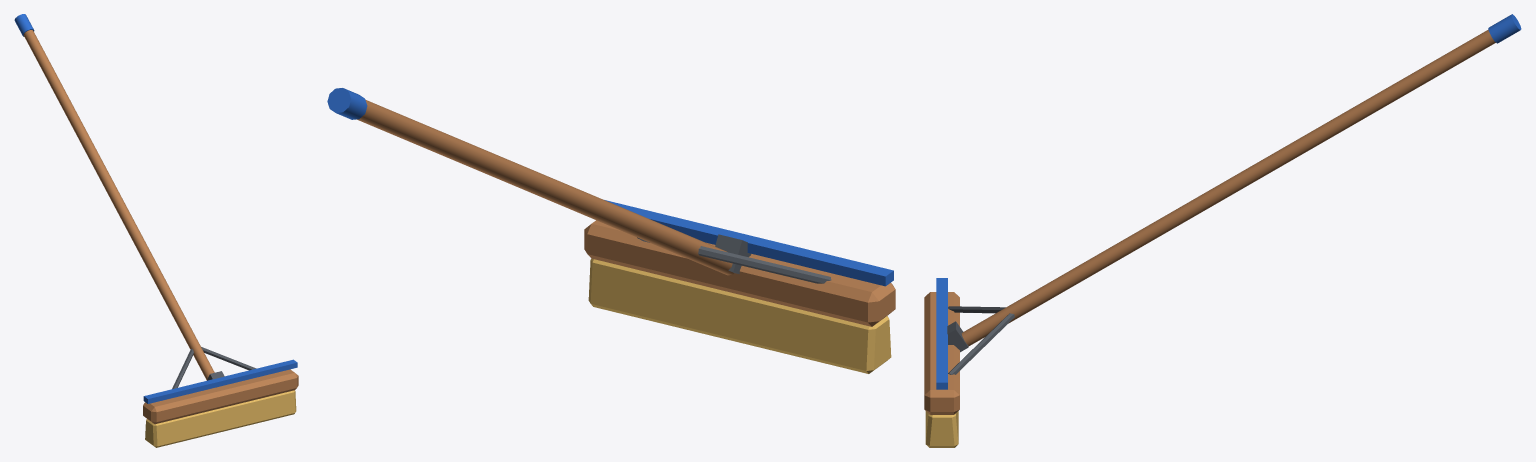
File: tool_broom.glb
The picture shows the model from 3 angles, left to right: view 1: azimuth 30°, elevation 25°; view 2: azimuth 150°, elevation 25°; view 3: azimuth 270°, elevation 25°; orthographic projection. The views are drawn at different scales.
Parts seen in each view (by area): view 1: Tool; view 2: Tool; view 3: Tool.
Boxes of the visible parts, x1,y1,x2,y2 form: Tool: [14, 14, 298, 447]; Tool: [327, 88, 895, 373]; Tool: [924, 14, 1521, 447].
Bounding box in the file's own units: 0.63 × 1.08 × 1.52.
